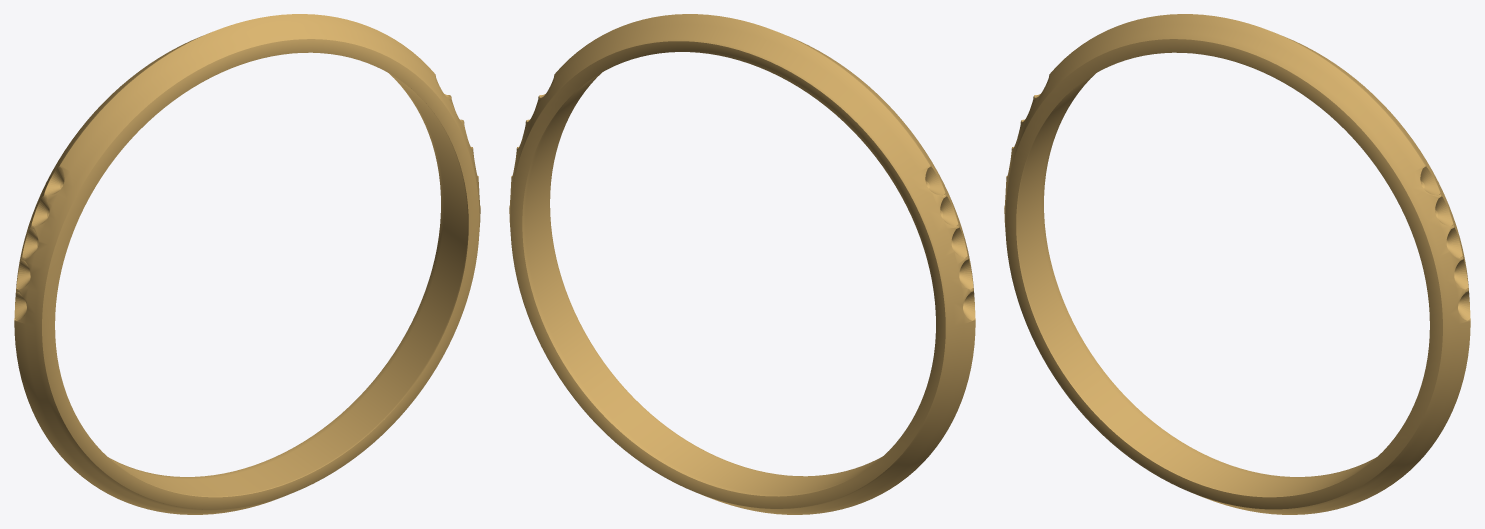
File: knife-edge-micro-pave-wide.glb
3 renders of one model, left to right at view 1: azimuth 30°, elevation 25°; view 2: azimuth 150°, elevation 25°; view 3: azimuth 330°, elevation 25°, orthographic.
Visible parts, largest first — view 1: Band; view 2: Band; view 3: Band.
Boxes of the visible parts, x1,y1,x2,y2 form: Band: [14, 14, 480, 514]; Band: [509, 14, 975, 514]; Band: [1004, 14, 1470, 514].
Size of the model in its own units: 19.6 by 19.6 by 2.1.
